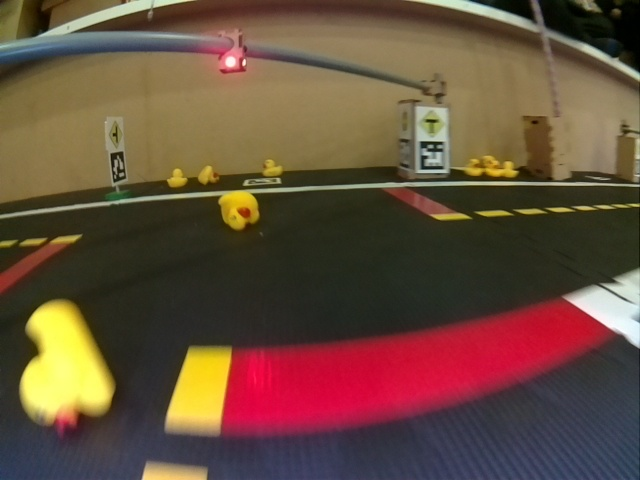Duckie: (19, 298, 116, 433), (218, 192, 260, 229), (198, 166, 218, 185), (168, 168, 186, 187), (263, 159, 282, 176), (465, 159, 481, 176), (503, 162, 519, 178), (485, 160, 498, 177)
Intersection sign: (418, 108, 445, 137), (109, 119, 123, 146)
QR code: (416, 142, 449, 173), (111, 152, 127, 183), (398, 137, 412, 170), (242, 177, 281, 186)
Traffic light: (220, 31, 245, 72)
